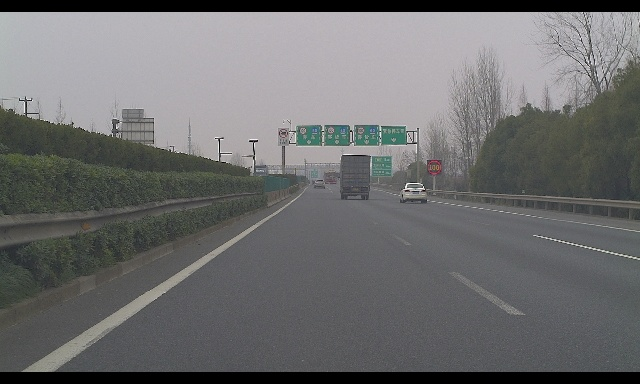car: (400, 183, 427, 203), (314, 179, 326, 188)
truck: (338, 155, 370, 200), (254, 165, 269, 180), (323, 170, 338, 184), (312, 178, 318, 185)
